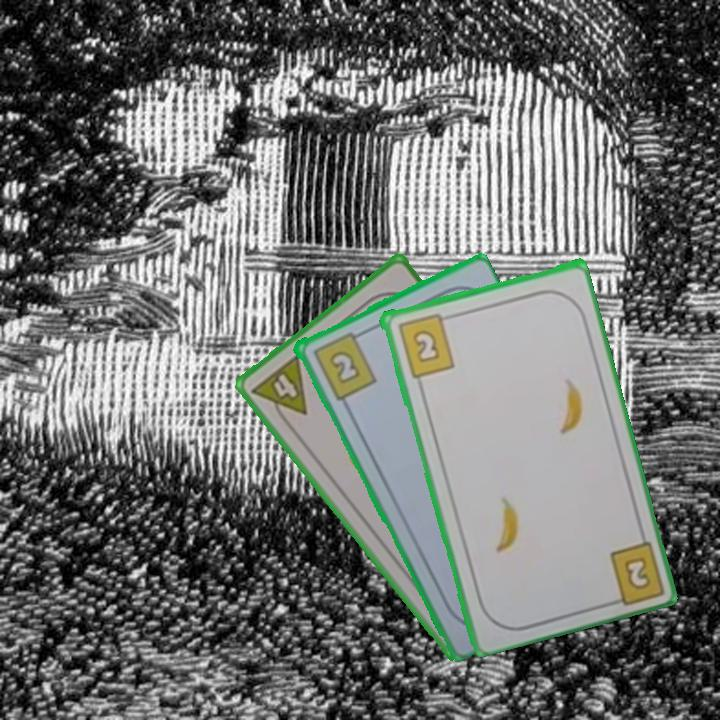2b: (309, 327, 379, 403), (394, 309, 457, 380), (602, 535, 664, 607)
4p: (247, 350, 310, 430)
